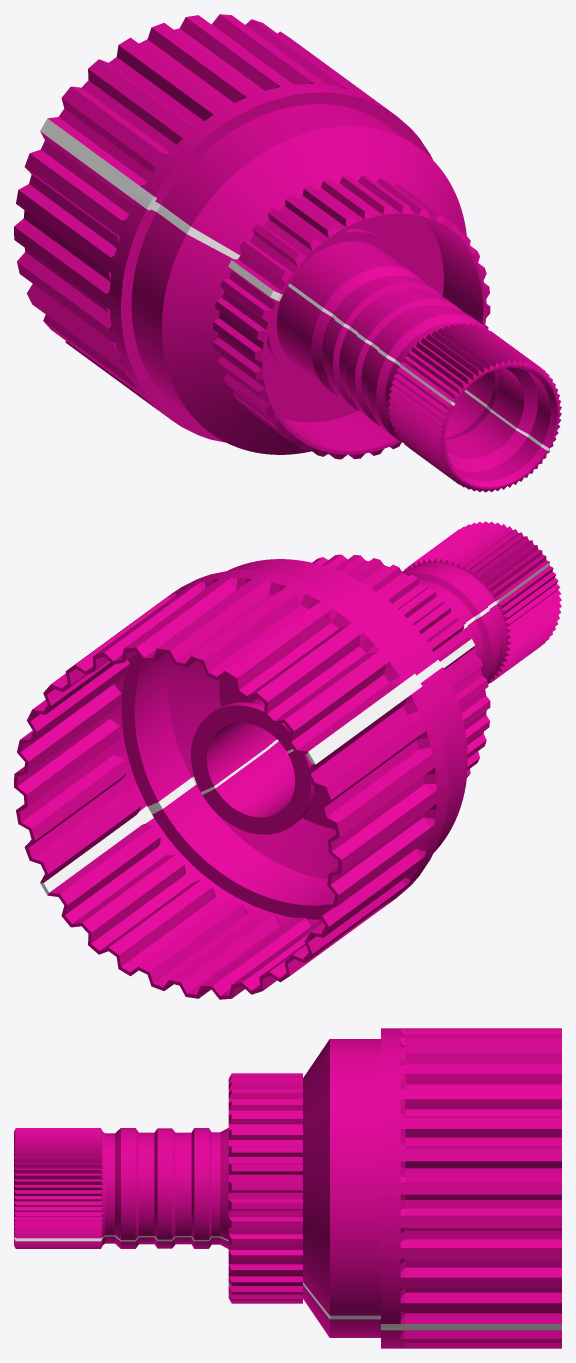
3 views of the same model, one above another, from view 1: azimuth 30°, elevation 25°; view 2: azimuth 150°, elevation 25°; view 3: azimuth 270°, elevation 25° (orthographic). The views are drawn at different scales.
Visible parts, largest first — view 1: 632; view 2: 632; view 3: 632.
Part boxes in pixels (box(x1,y1,x2,y2)): 632: box(14, 14, 561, 492); 632: box(14, 521, 561, 999); 632: box(14, 1028, 561, 1348).
Size of the model in its own units: 1311 by 1309 by 2240.
